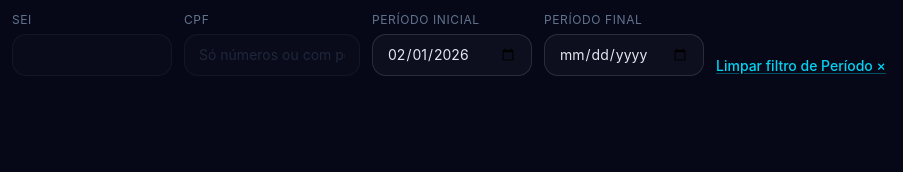
it: PainelFiltrosPrincipal › período final anterior ao inicial mostra aviso e não aplica
Type "2026-01-01" into the date field labelled "Período final" at (624, 55), box [544,34,704,76]
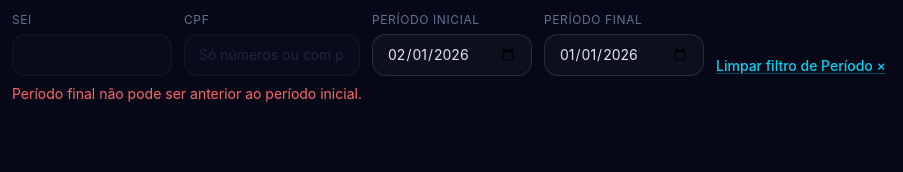
Result: the text "Período final não pode ser anterior ao período inicial." is shown at [12,85,362,102]
